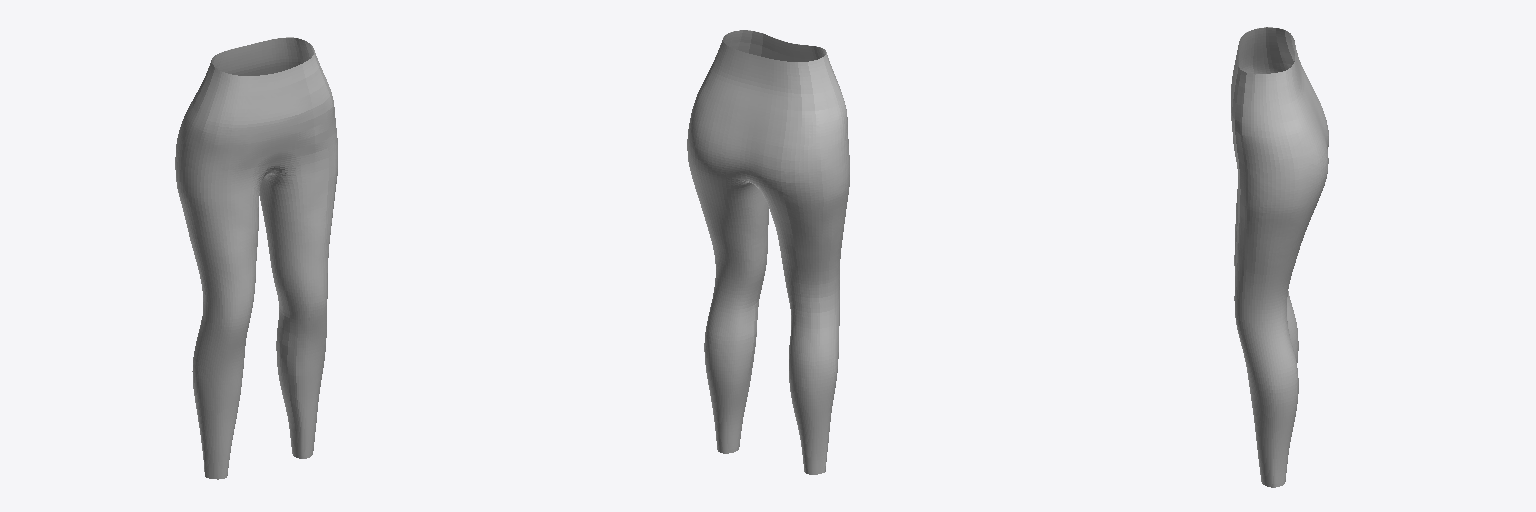
The model's file is shirt.obj.
3 renders of one model, left to right at view 1: azimuth 30°, elevation 25°; view 2: azimuth 150°, elevation 25°; view 3: azimuth 270°, elevation 25°, orthographic.
Parts seen in each view (by area): view 1: Cube.002_Cube.003; view 2: Cube.002_Cube.003; view 3: Cube.002_Cube.003.
Boxes of the visible parts, <box> form: Cube.002_Cube.003: <box>175,37,337,479</box>; Cube.002_Cube.003: <box>687,30,849,474</box>; Cube.002_Cube.003: <box>1231,27,1328,487</box>.
Bounding box in the file's own units: 0.7661 × 2 × 0.4325.